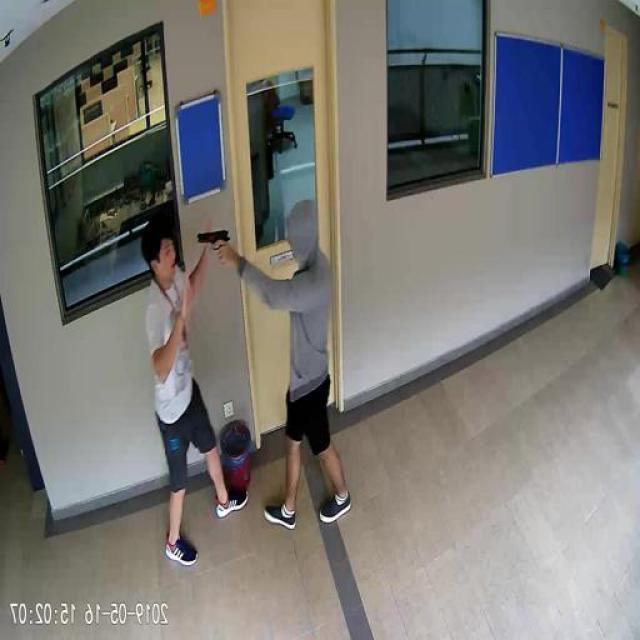Gun: (199, 228, 230, 262)
